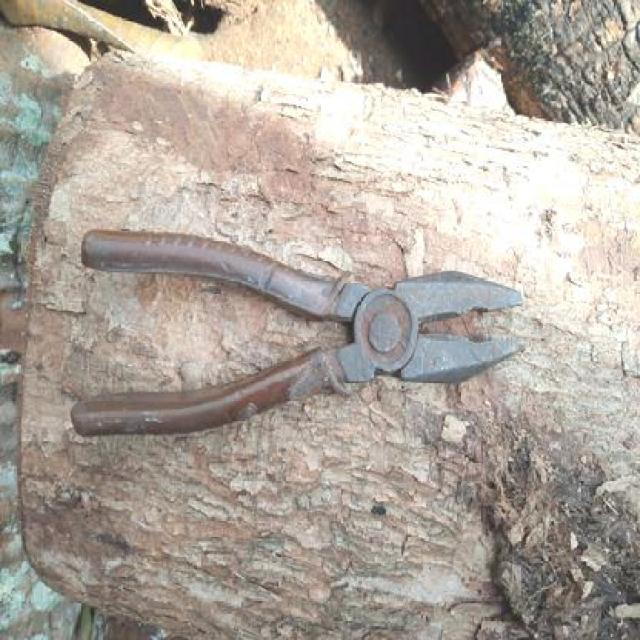pliers: (72, 231, 530, 434)
